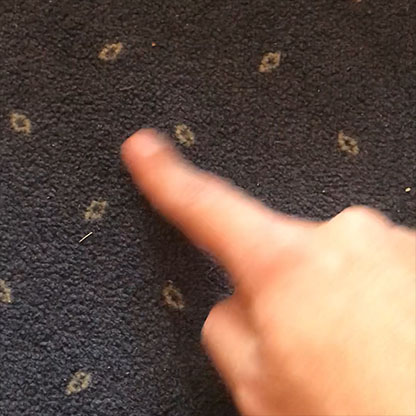fingertip: (109, 117, 178, 176)
